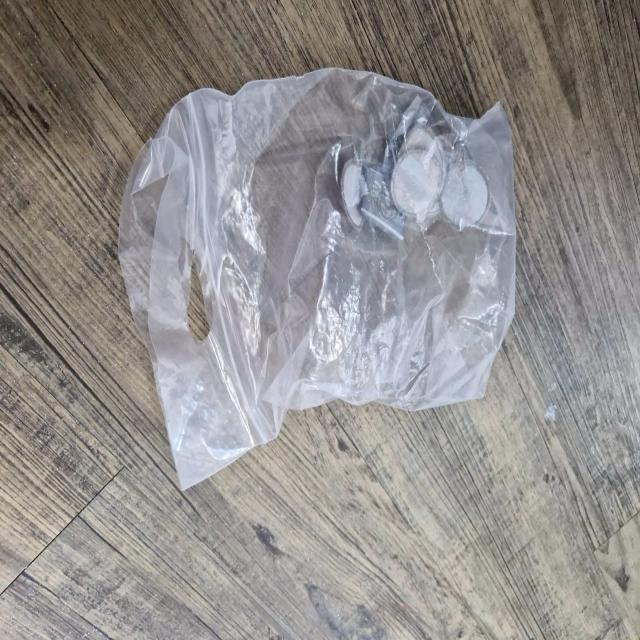plastic bag: (119, 78, 524, 480)
